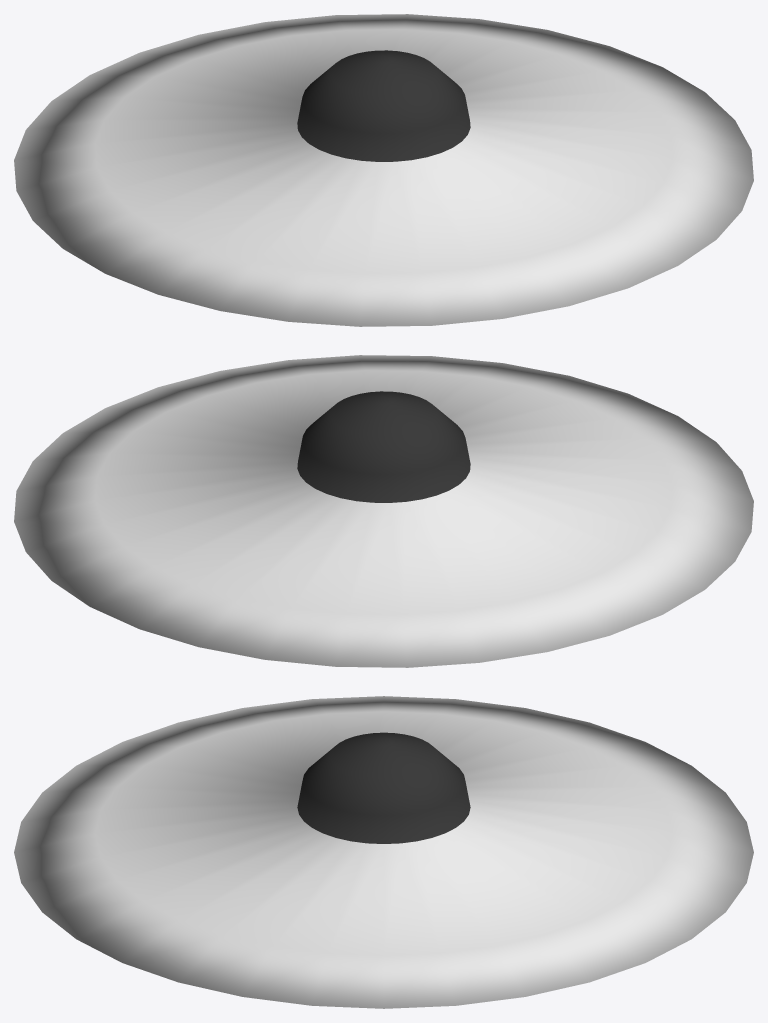
File: ufo.obj
3 renders of one model, top to bottom at view 1: azimuth 30°, elevation 25°; view 2: azimuth 150°, elevation 25°; view 3: azimuth 270°, elevation 25°, orthographic.
Visible parts, largest first — view 1: UFO_Cylinder; view 2: UFO_Cylinder; view 3: UFO_Cylinder.
Part boxes in pixels (x1,y1,x2,y2): UFO_Cylinder: (14,14,753,326); UFO_Cylinder: (14,355,753,667); UFO_Cylinder: (14,696,753,1008).
Size of the model in its own units: 8.33 by 2.2 by 8.33.
